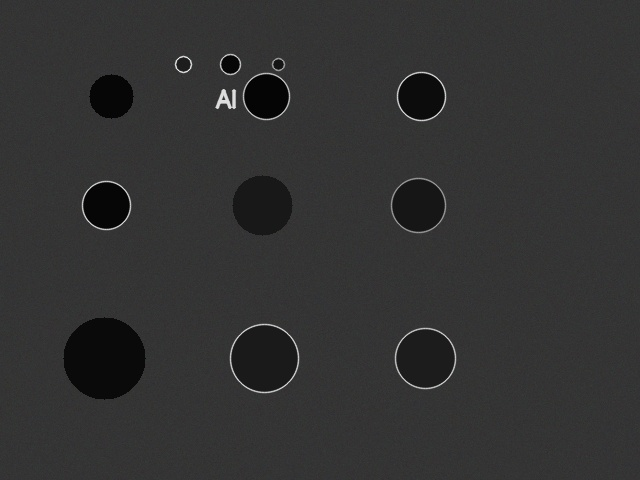hole: (63, 317, 145, 399), (230, 324, 298, 392), (232, 175, 292, 235), (395, 328, 455, 388), (391, 178, 445, 232), (397, 72, 445, 120), (82, 181, 130, 229), (243, 73, 289, 119), (89, 74, 133, 118), (220, 54, 240, 74), (175, 56, 191, 72), (272, 58, 284, 70)
